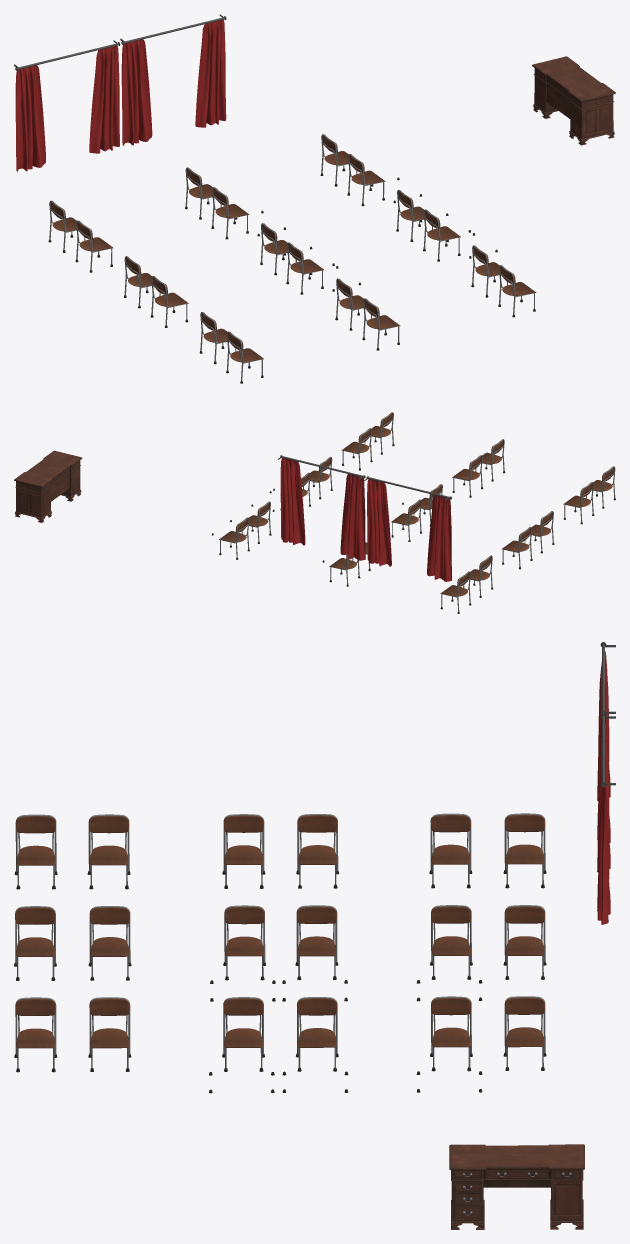
Rendered from Salon de clases 1.fbx.
3 renders of one model, top to bottom at view 1: azimuth 30°, elevation 25°; view 2: azimuth 150°, elevation 25°; view 3: azimuth 270°, elevation 25°, orthographic. The views are drawn at different scales.
Visible parts, largest first — view 1: Curtain Hold.001_Curtain_0, Curtain Hold.002_Curtain_0, Cube.001_MI_TeachersTable_0; view 2: Curtain Hold.002_Curtain_0, Curtain Hold.001_Curtain_0, Cube.001_MI_TeachersTable_0; view 3: Cube.001_MI_TeachersTable_0, Curtain Hold.002_Curtain_0, Curtain Hold.001_Curtain_0.
Part boxes in pixels (left/top/right/bottom): Curtain Hold.001_Curtain_0: left=14, top=40, right=120, bottom=171; Curtain Hold.002_Curtain_0: left=120, top=14, right=226, bottom=145; Cube.001_MI_TeachersTable_0: left=532, top=56, right=615, bottom=145; Curtain Hold.002_Curtain_0: left=278, top=455, right=365, bottom=560; Curtain Hold.001_Curtain_0: left=364, top=476, right=451, bottom=581; Cube.001_MI_TeachersTable_0: left=14, top=450, right=82, bottom=522; Cube.001_MI_TeachersTable_0: left=449, top=1144, right=584, bottom=1229; Curtain Hold.002_Curtain_0: left=597, top=713, right=615, bottom=924; Curtain Hold.001_Curtain_0: left=597, top=642, right=615, bottom=842.
Size of the model in its own units: 1129 by 323 by 785.
Materials: 3 (3 with a texture image).
